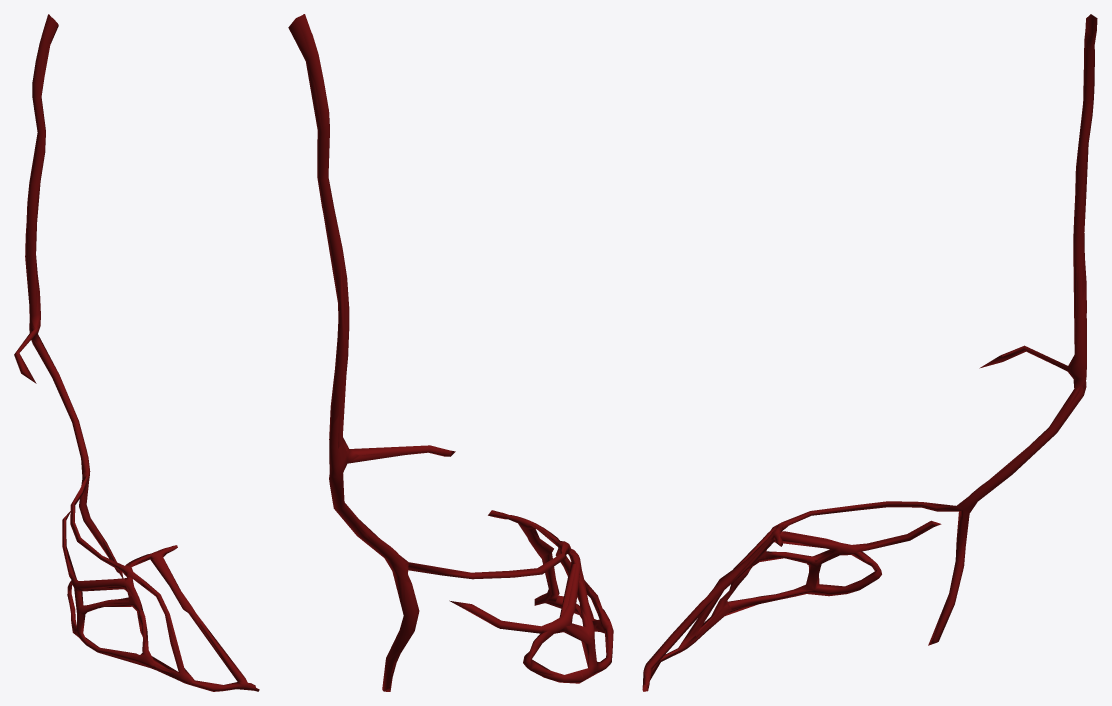
Rendered from L digitales medialis.fbx.
The picture shows the model from 3 angles, left to right: view 1: azimuth 30°, elevation 25°; view 2: azimuth 150°, elevation 25°; view 3: azimuth 270°, elevation 25°; orthographic projection. The views are drawn at different scales.
Visible parts, largest first — view 1: L digitales medialis, L digitales medialis low; view 2: L digitales medialis, L digitales medialis low; view 3: L digitales medialis, L digitales medialis low.
Part boxes in pixels (x1,y1,x2,y2): L digitales medialis: [14, 14, 259, 691]; L digitales medialis low: [16, 14, 255, 690]; L digitales medialis: [296, 14, 613, 691]; L digitales medialis low: [288, 18, 613, 691]; L digitales medialis: [642, 14, 1097, 691]; L digitales medialis low: [642, 14, 1097, 690].
Bounding box in the file's own units: 2.67 × 12.48 × 7.76.
